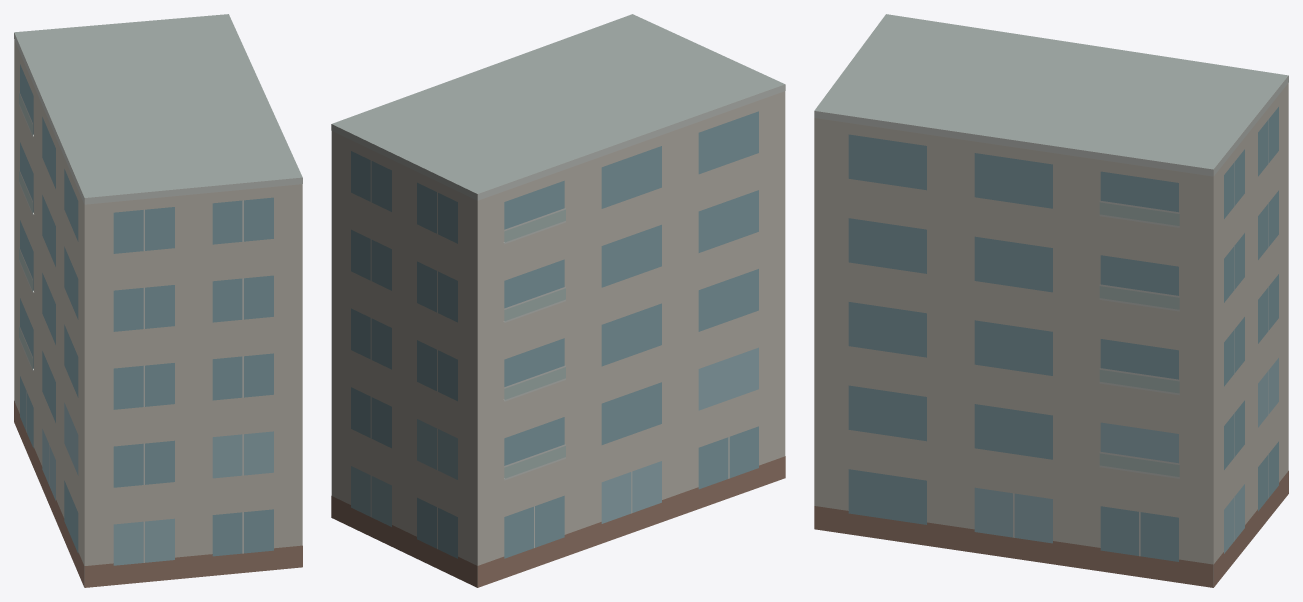
Rendered from survey-upis-32853512.glb.
3 views of the same model, side by side, from view 1: azimuth 30°, elevation 25°; view 2: azimuth 150°, elevation 25°; view 3: azimuth 270°, elevation 25° (orthographic). The views are drawn at different scales.
Parts seen in each view (by area): view 1: survey-upis-32853512.tmp; view 2: survey-upis-32853512.tmp; view 3: survey-upis-32853512.tmp.
Part boxes in pixels (bbox=[...]): survey-upis-32853512.tmp: bbox=[14, 14, 302, 587]; survey-upis-32853512.tmp: bbox=[331, 14, 785, 587]; survey-upis-32853512.tmp: bbox=[814, 14, 1288, 587].
Bounding box in the file's own units: 11.49 × 14.4 × 14.81.
